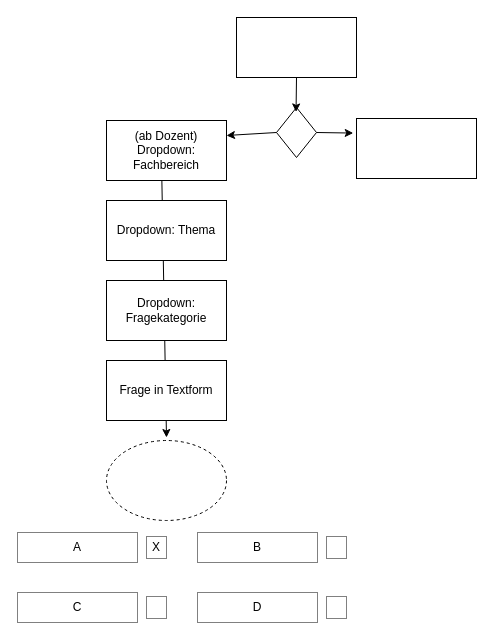
This 494x640 diagram has some shape labels left out. The centre of each missing label's shape, as x and y in pixels:
"Fragenpool" goes at point (296, 47).
"Import Dateiauswahl OR Drag&Drop" goes at point (416, 148).
"optional: Bildupload" goes at point (166, 480).
